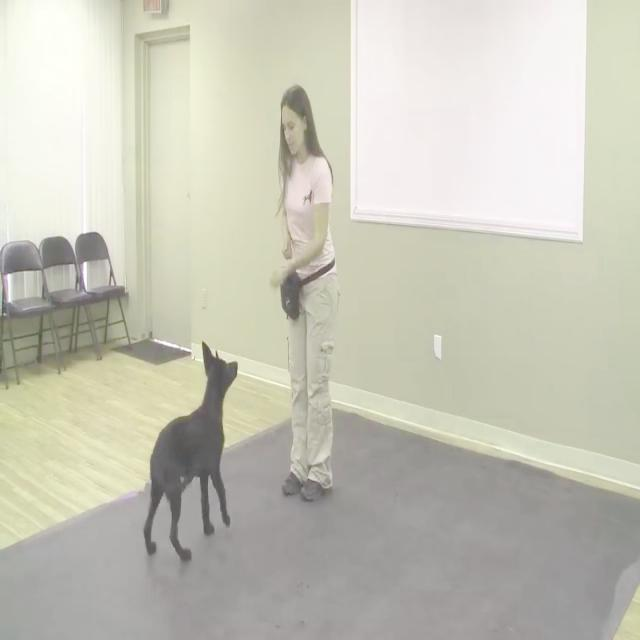Unleashed_Dog: (143, 269, 322, 564)
